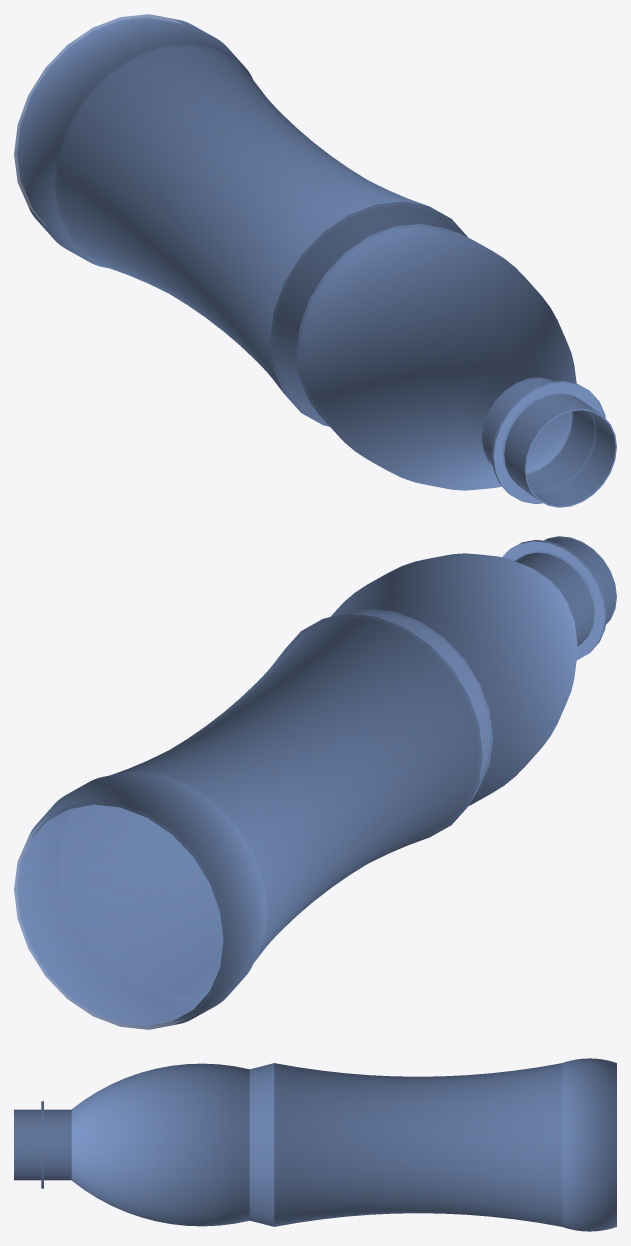
The model's file is model_scale.obj.
3 views of the same model, one above another, from view 1: azimuth 30°, elevation 25°; view 2: azimuth 150°, elevation 25°; view 3: azimuth 270°, elevation 25° (orthographic). The views are drawn at different scales.
Visible parts, largest first — view 1: mesh1_mesh1-geometry; view 2: mesh1_mesh1-geometry; view 3: mesh1_mesh1-geometry.
Boxes of the visible parts, <box> form: mesh1_mesh1-geometry: <box>14,14,616,507</box>; mesh1_mesh1-geometry: <box>14,536,616,1029</box>; mesh1_mesh1-geometry: <box>14,1058,616,1231</box>.
Bounding box in the file's own units: 0.0441 × 0.0441 × 0.153.
